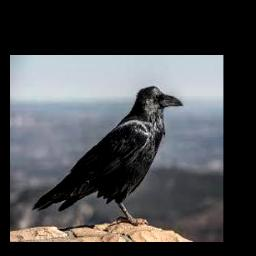Crow: (31, 86, 183, 226)
